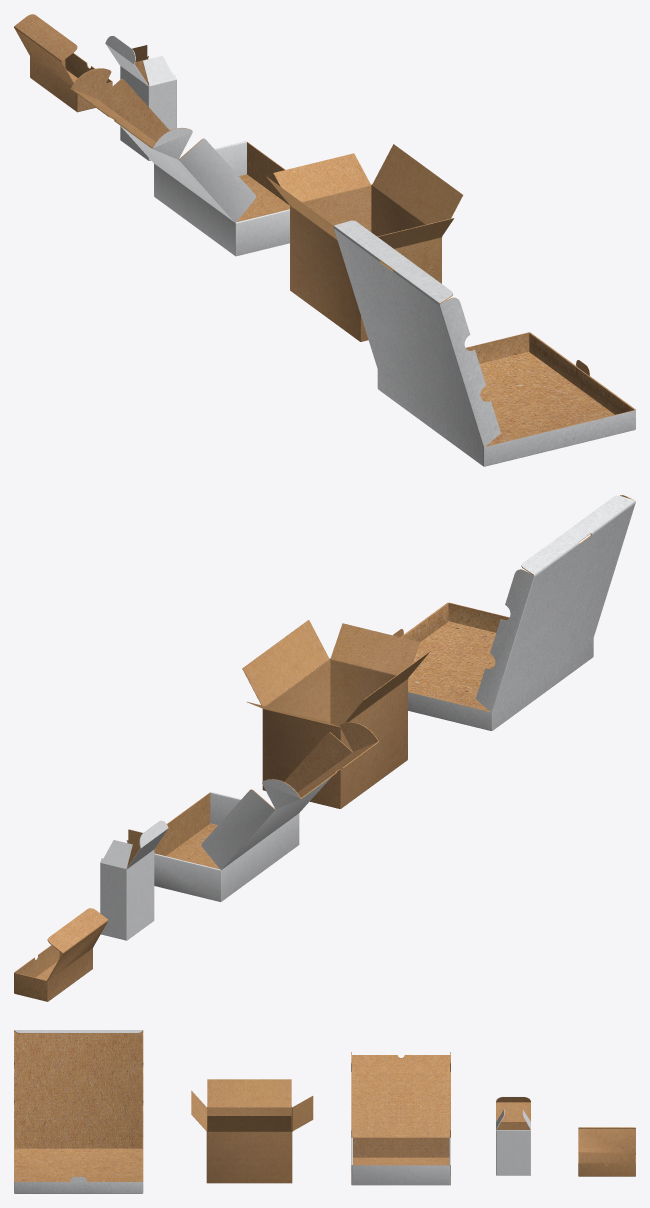
File: Boxes.fbx
3 views of the same model, one above another, from view 1: azimuth 30°, elevation 25°; view 2: azimuth 150°, elevation 25°; view 3: azimuth 270°, elevation 25° (orthographic). The views are drawn at different scales.
Parts seen in each view (by area): view 1: Box1, Box2, Box3, Box5, Box4; view 2: Box1, Box2, Box3, Box4, Box5; view 3: Box1, Box3, Box2, Box5, Box4.
Boxes of the visible parts, box(x1,y1,x2,y2) form: Box1: box(333, 220, 635, 466); Box2: box(266, 144, 463, 341); Box3: box(70, 68, 289, 256); Box5: box(14, 14, 112, 112); Box4: box(105, 36, 176, 160); Box1: box(393, 495, 635, 730); Box2: box(242, 620, 430, 808); Box3: box(154, 722, 378, 901); Box4: box(100, 820, 168, 940); Box5: box(14, 908, 108, 1001); Box1: box(14, 1030, 143, 1193); Box3: box(351, 1052, 450, 1185); Box2: box(191, 1079, 313, 1183); Box5: box(578, 1127, 635, 1176); Box4: box(496, 1096, 530, 1175).
Bounding box in the file's own units: 504 × 416 × 2168.
